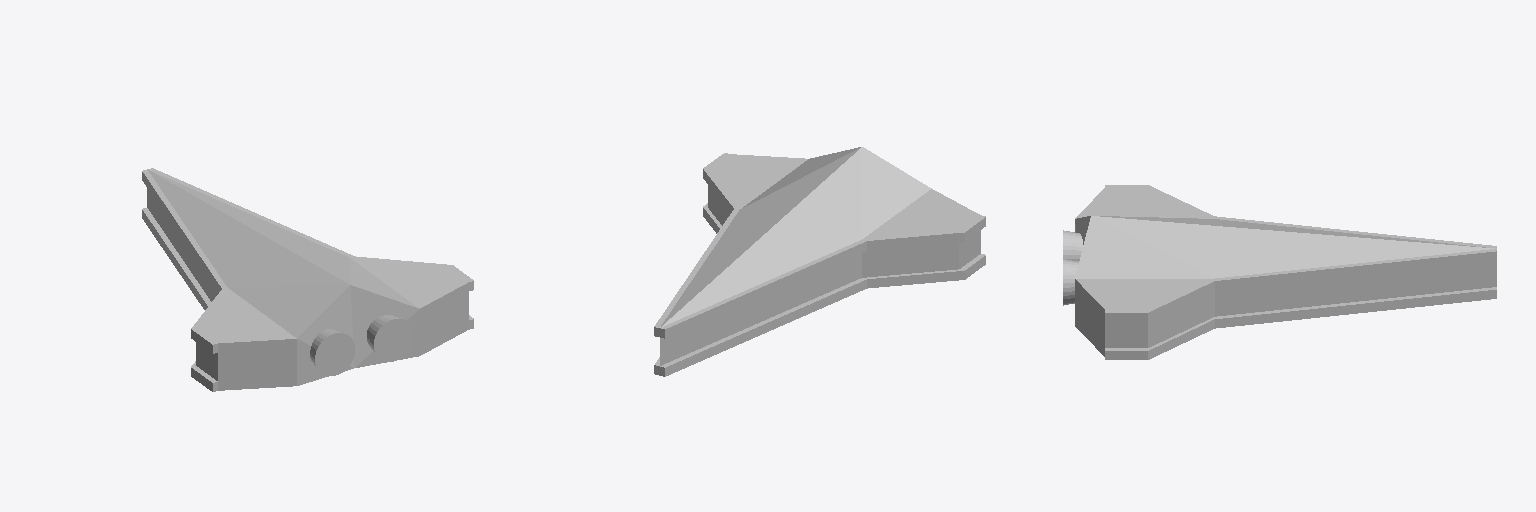
File: PlayerShip.obj
3 renders of one model, left to right at view 1: azimuth 30°, elevation 25°; view 2: azimuth 150°, elevation 25°; view 3: azimuth 270°, elevation 25°, orthographic.
Parts seen in each view (by area): view 1: Ship_Body_Cube.001, Right_Engine_Cylinder.001, Left_Engine_Cylinder.002; view 2: Ship_Body_Cube.001; view 3: Ship_Body_Cube.001, Right_Engine_Cylinder.001, Left_Engine_Cylinder.002.
Part boxes in pixels (bbox=[...]): Ship_Body_Cube.001: bbox=[142, 168, 473, 391]; Right_Engine_Cylinder.001: bbox=[367, 315, 413, 361]; Left_Engine_Cylinder.002: bbox=[310, 329, 354, 375]; Ship_Body_Cube.001: bbox=[654, 147, 985, 376]; Ship_Body_Cube.001: bbox=[1075, 185, 1496, 359]; Right_Engine_Cylinder.001: bbox=[1063, 259, 1078, 305]; Left_Engine_Cylinder.002: bbox=[1063, 230, 1082, 261].
Bounding box in the file's own units: 3.57 × 1.05 × 5.13.